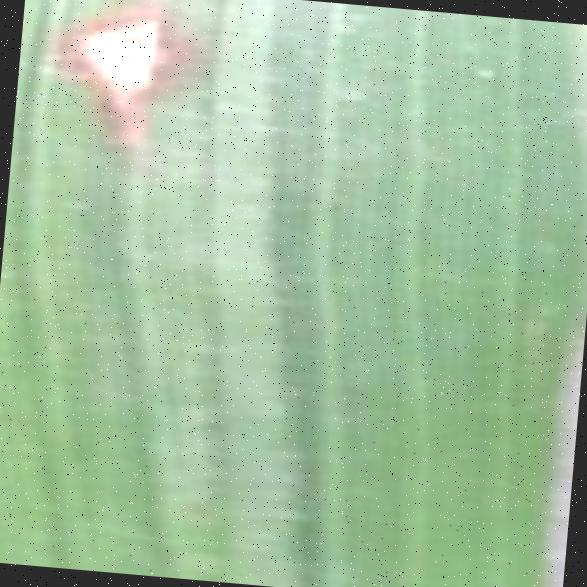Leaf_smut: (32, 0, 219, 154)
